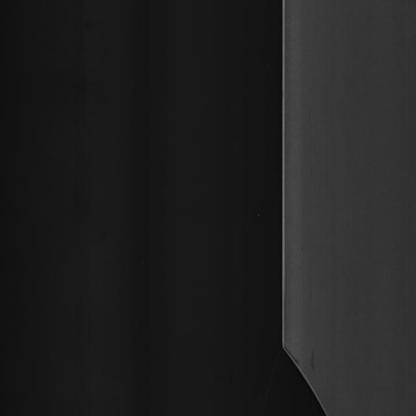crescent_gap: (278, 325, 342, 416)
